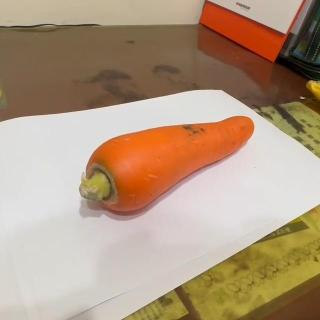carrot: (80, 114, 256, 213)
